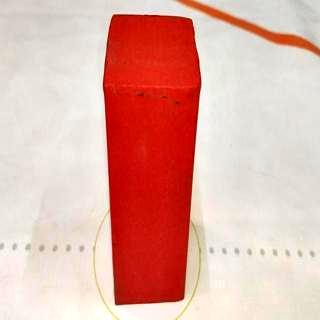redbox: (102, 13, 202, 306)
